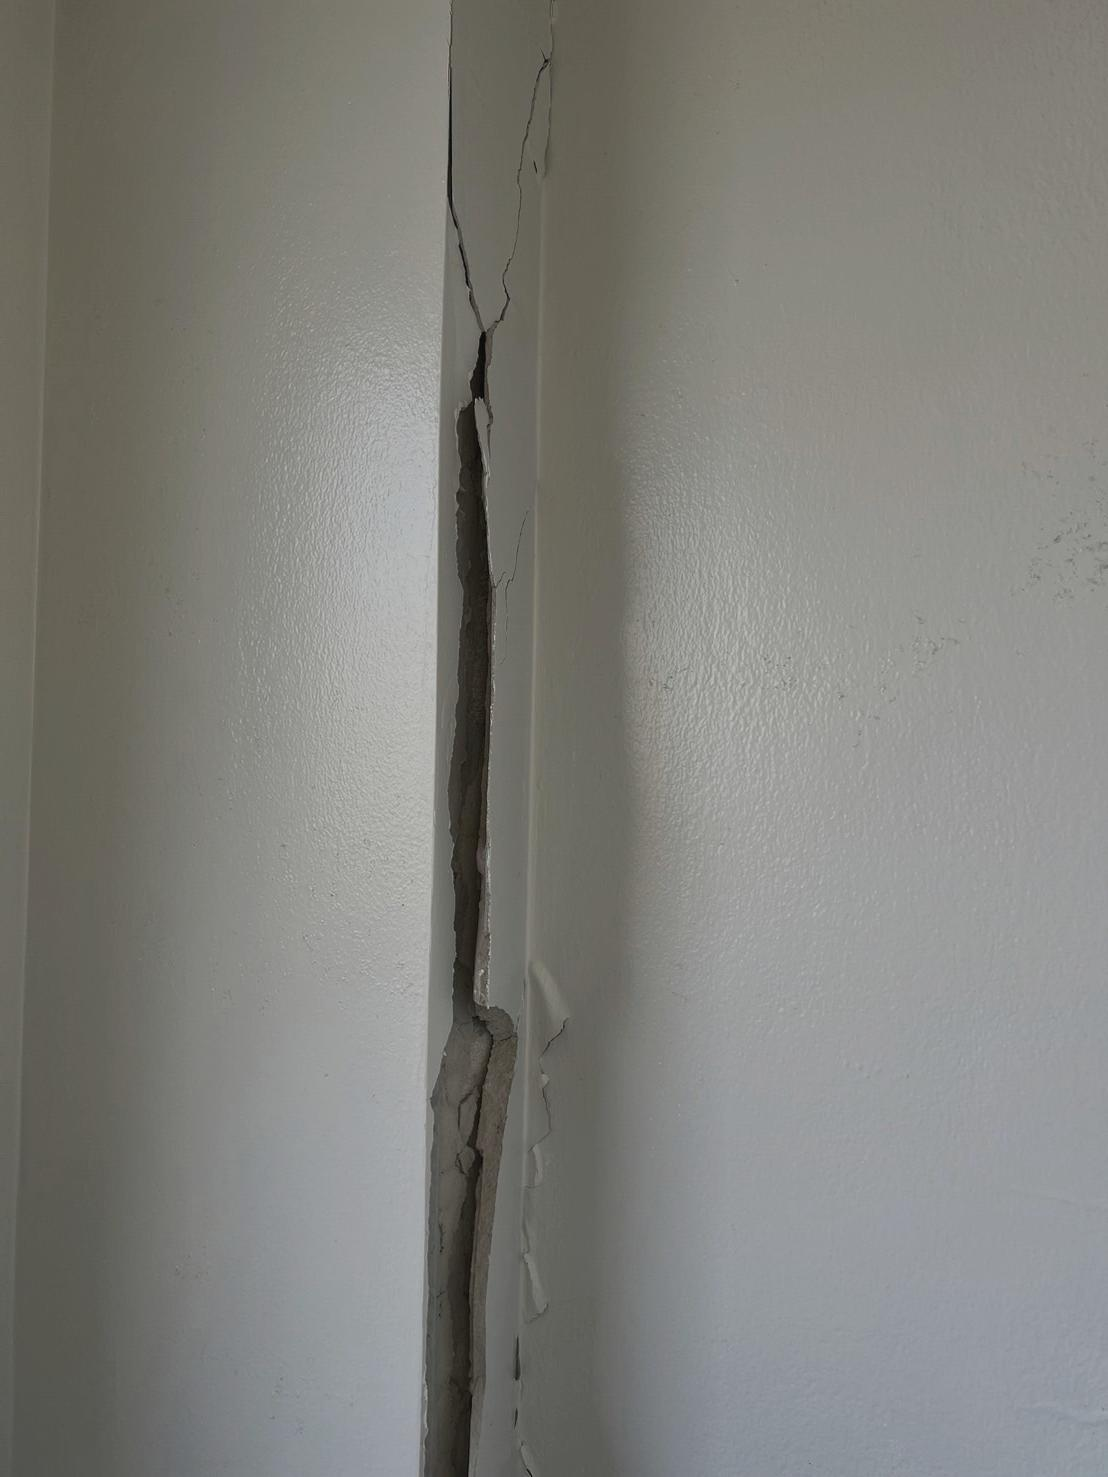High: (381, 2, 597, 1477)
